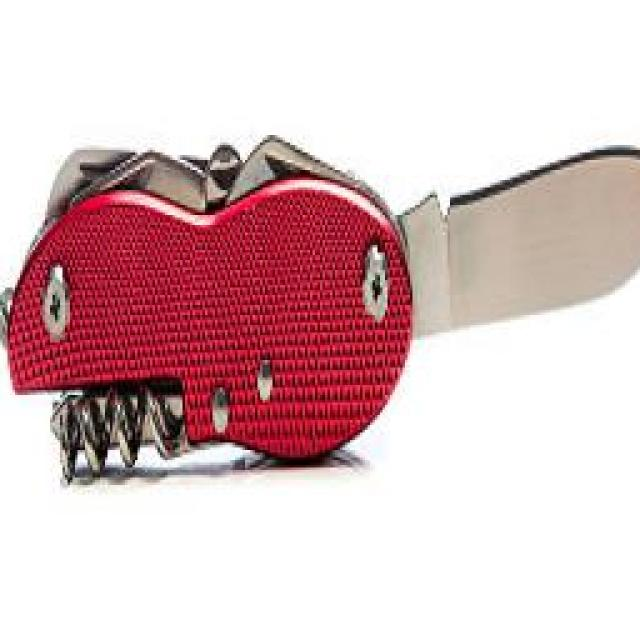knife: (0, 128, 640, 460)
